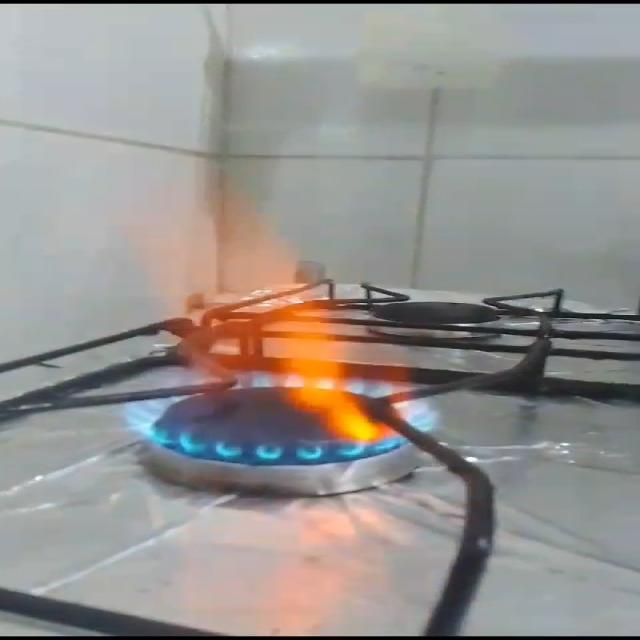fogo-ypXI: (112, 158, 443, 467)
